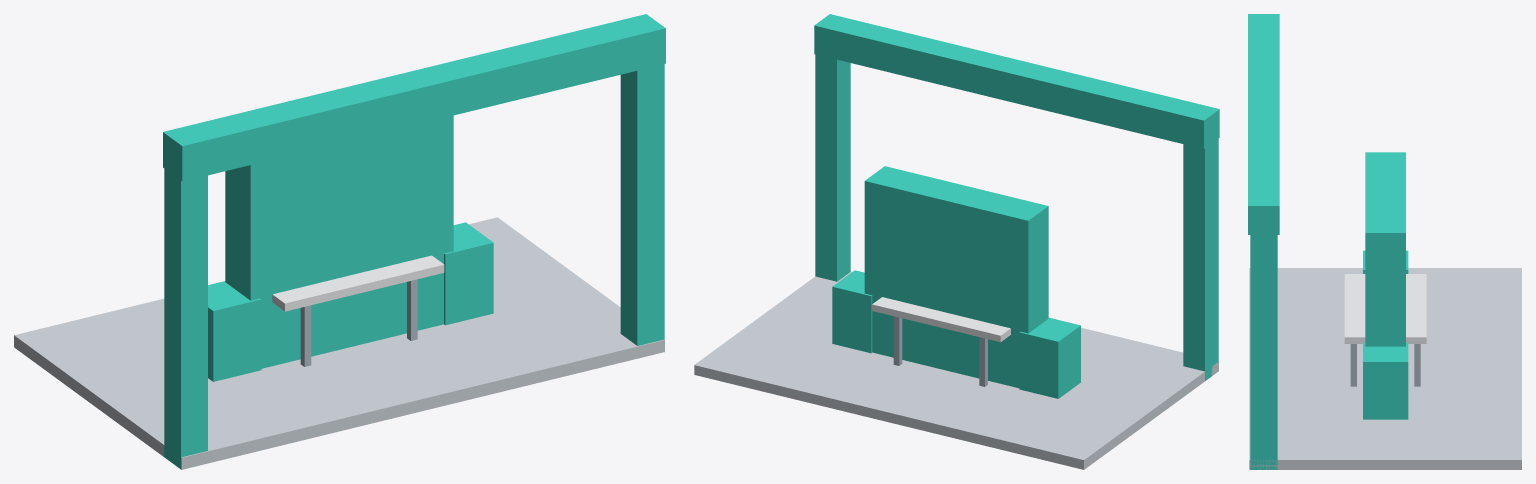
The picture shows the model from 3 angles, left to right: view 1: azimuth 30°, elevation 25°; view 2: azimuth 150°, elevation 25°; view 3: azimuth 270°, elevation 25°; orthographic projection. The views are drawn at different scales.
Visible parts, largest first — view 1: Exhibition Booth Concept; view 2: Exhibition Booth Concept; view 3: Exhibition Booth Concept.
Boxes of the visible parts, x1,y1,x2,y2 form: Exhibition Booth Concept: [14, 14, 665, 469]; Exhibition Booth Concept: [694, 14, 1219, 469]; Exhibition Booth Concept: [1248, 14, 1521, 469].
Size of the model in its own units: 5 by 3.2 by 3.01.
